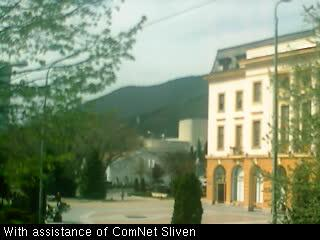person: (54, 191, 62, 206), (120, 189, 126, 202)
